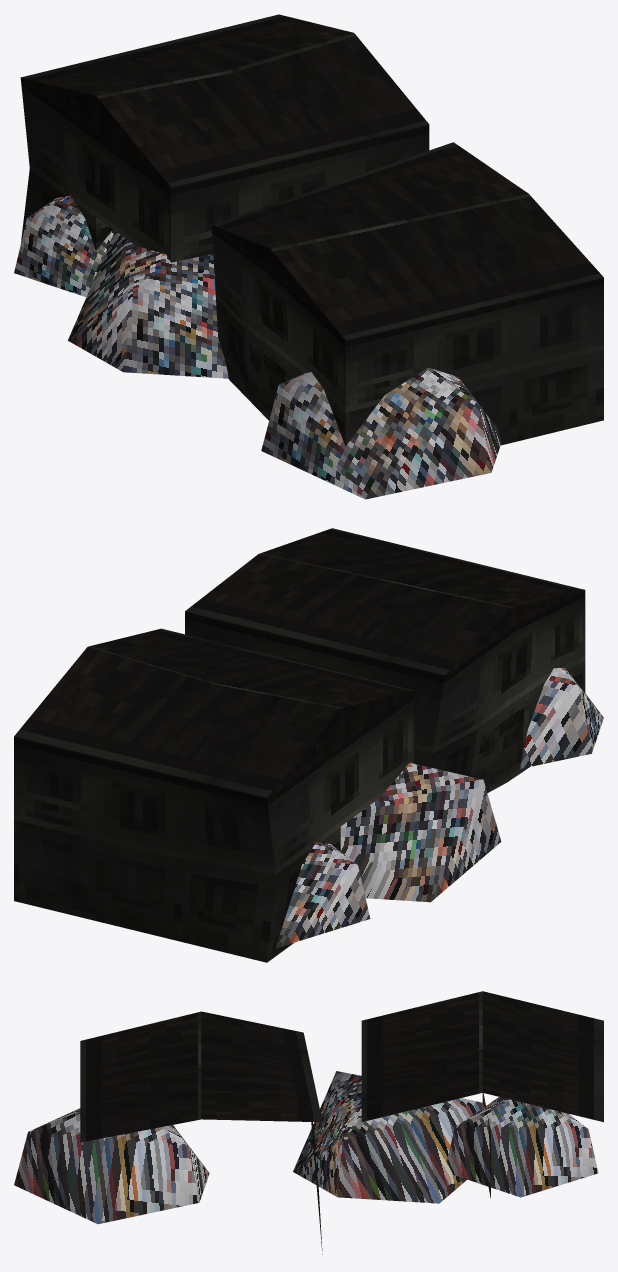
File: env_bld_residential_poor.glb
The picture shows the model from 3 angles, top to bottom: view 1: azimuth 30°, elevation 25°; view 2: azimuth 150°, elevation 25°; view 3: azimuth 270°, elevation 25°; orthographic projection. The views are drawn at different scales.
Visible parts, largest first — view 1: env_bld_residential_poor; view 2: env_bld_residential_poor; view 3: env_bld_residential_poor.
Part boxes in pixels (left/top/right/bottom): env_bld_residential_poor: left=14, top=14, right=603, bottom=499; env_bld_residential_poor: left=14, top=528, right=603, bottom=962; env_bld_residential_poor: left=14, top=991, right=603, bottom=1254.
Bounding box in the file's own units: 0.0157 × 0.00947 × 0.0304.
2 materials, 2 textured.
